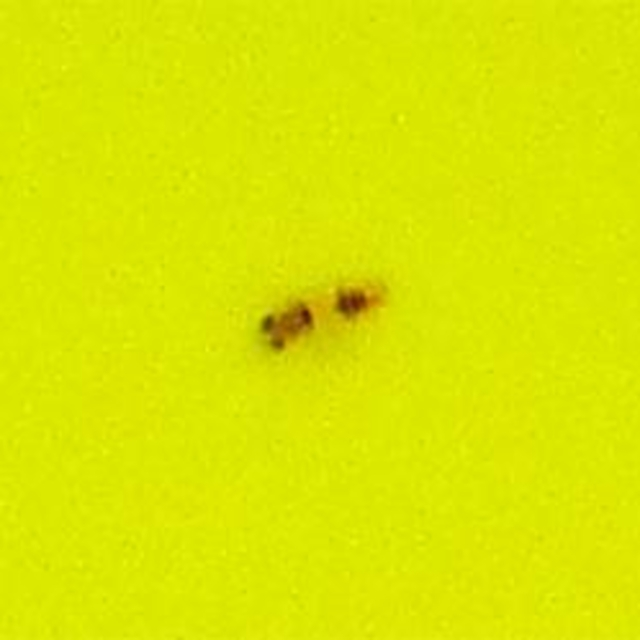Hemiptera: (257, 275, 383, 365)
